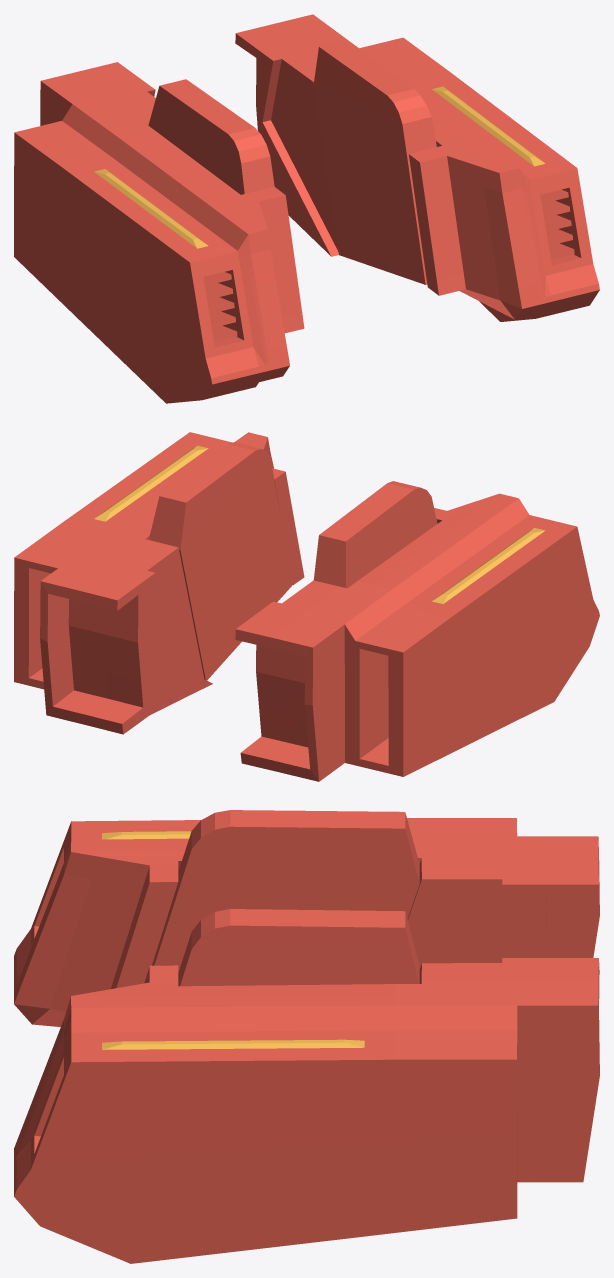
Rendered from Level_P_14_fix.fbx.
3 views of the same model, one above another, from view 1: azimuth 30°, elevation 25°; view 2: azimuth 150°, elevation 25°; view 3: azimuth 270°, elevation 25° (orthographic). The views are drawn at different scales.
Parts seen in each view (by area): view 1: Cube_14.004, Cube_14.014, Cube_14.001, Cube_14.007; view 2: Cube_14.004, Cube_14.014, Cube_14.001, Cube_14.007; view 3: Cube_14.014, Cube_14.004, Cube_14.007, Cube_14.001.
Part boxes in pixels (x1,y1,x2,y2): Cube_14.004: (14, 62, 304, 403); Cube_14.014: (235, 14, 599, 321); Cube_14.001: (313, 40, 436, 284); Cube_14.007: (148, 79, 274, 194); Cube_14.004: (235, 493, 599, 781); Cube_14.014: (14, 432, 304, 734); Cube_14.001: (149, 442, 293, 680); Cube_14.007: (313, 481, 437, 588); Cube_14.014: (14, 958, 599, 1263); Cube_14.004: (14, 818, 599, 1027); Cube_14.007: (152, 810, 419, 972); Cube_14.001: (178, 909, 419, 986).
Size of the model in its own units: 11.5 by 6.1 by 11.76.
